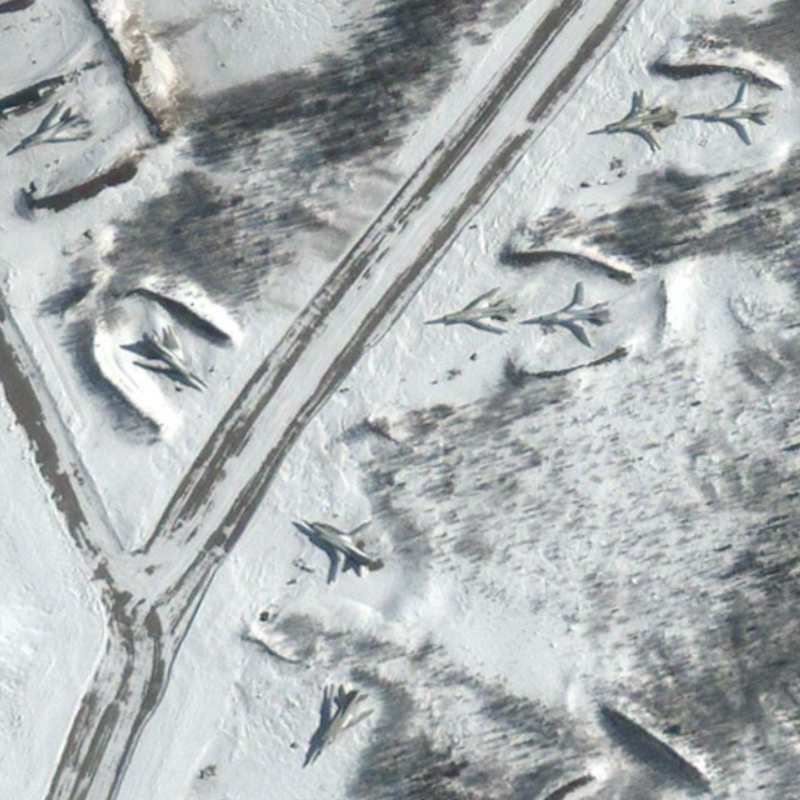A12: (517, 277, 614, 351), (584, 87, 682, 154), (302, 682, 376, 768), (682, 79, 774, 148), (130, 321, 213, 394), (298, 516, 387, 584), (3, 97, 99, 159), (422, 284, 519, 336)
